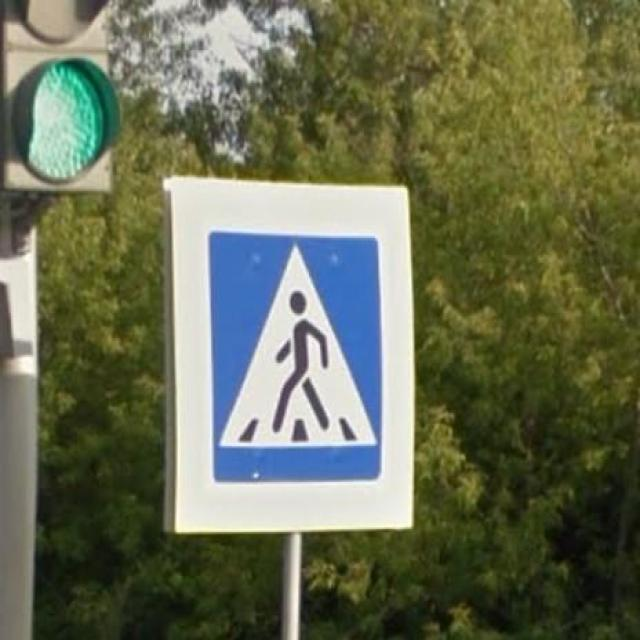traffic_sign: (174, 175, 415, 532)
